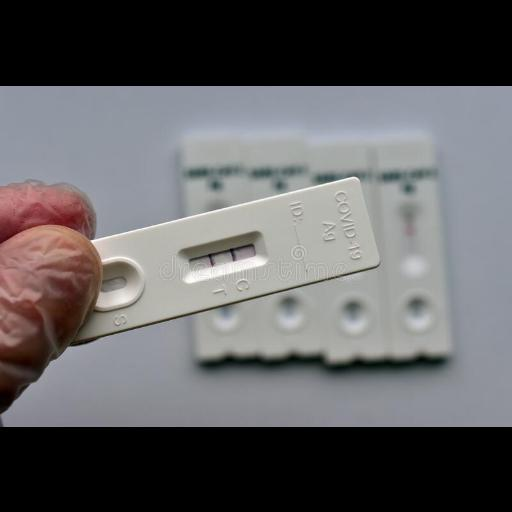Pos: (60, 176, 380, 340)
